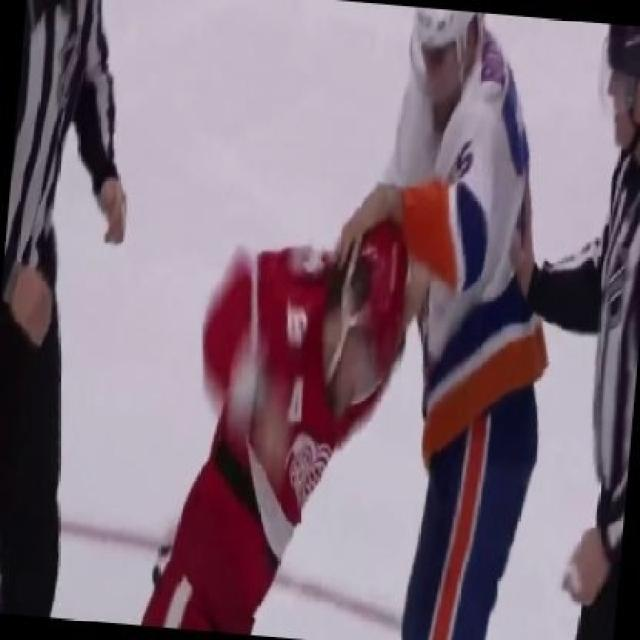fight: (140, 0, 544, 639)
